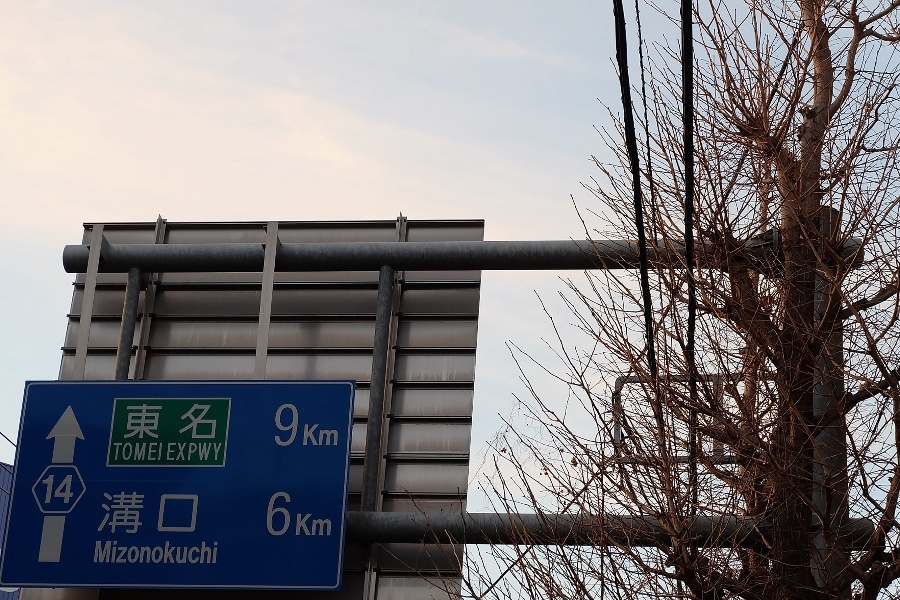text: (113, 492, 128, 537), (129, 492, 144, 537), (145, 492, 160, 537), (161, 492, 176, 537), (177, 492, 192, 537), (273, 492, 288, 537), (289, 492, 304, 537), (305, 492, 320, 537), (289, 404, 304, 446), (305, 404, 320, 446), (321, 404, 336, 446), (321, 492, 334, 537), (129, 405, 144, 440), (145, 405, 160, 440), (161, 405, 176, 440), (177, 405, 192, 440), (193, 405, 208, 440), (276, 404, 288, 446), (49, 475, 64, 504), (103, 492, 112, 537), (209, 405, 219, 440), (97, 541, 112, 564), (113, 541, 128, 564), (129, 541, 144, 564), (145, 541, 160, 564), (161, 541, 176, 564), (177, 541, 192, 564), (193, 541, 208, 564), (193, 492, 200, 537), (65, 475, 75, 504), (129, 443, 144, 461), (145, 443, 160, 461), (177, 443, 192, 461), (193, 443, 208, 461), (114, 443, 128, 461), (209, 443, 222, 461), (209, 541, 218, 564), (168, 443, 176, 461), (269, 492, 272, 537), (337, 404, 340, 446), (44, 475, 48, 504), (161, 443, 162, 461)
